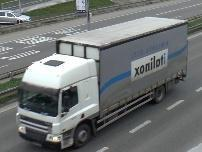car: (0, 8, 30, 27)
truck: (15, 16, 187, 150)
